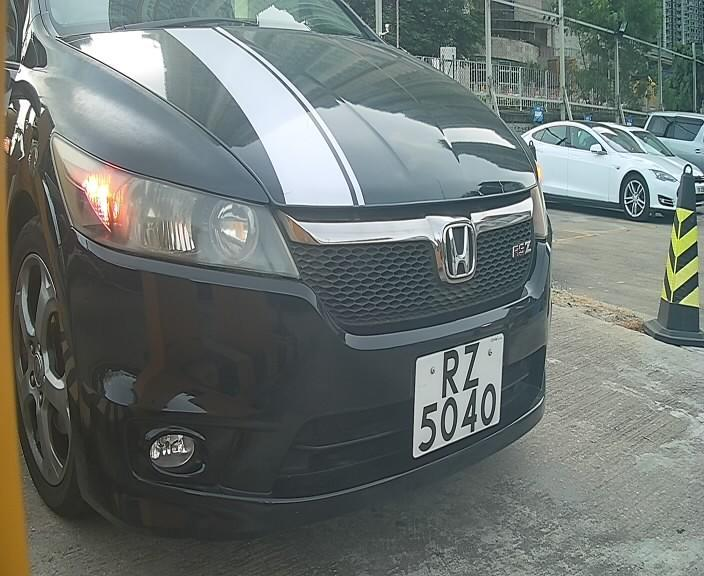License Plate: (406, 327, 503, 461)
